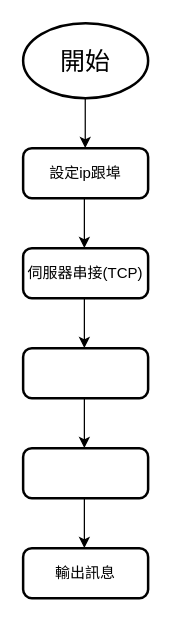
This 170x620 diagram has some shape labels left out. Here are the shapes that lost their labels. From the top down, the centre of each, then its label:
point 85,372: 連接ip跟埠
point 85,472: 使用者輸入訊息
